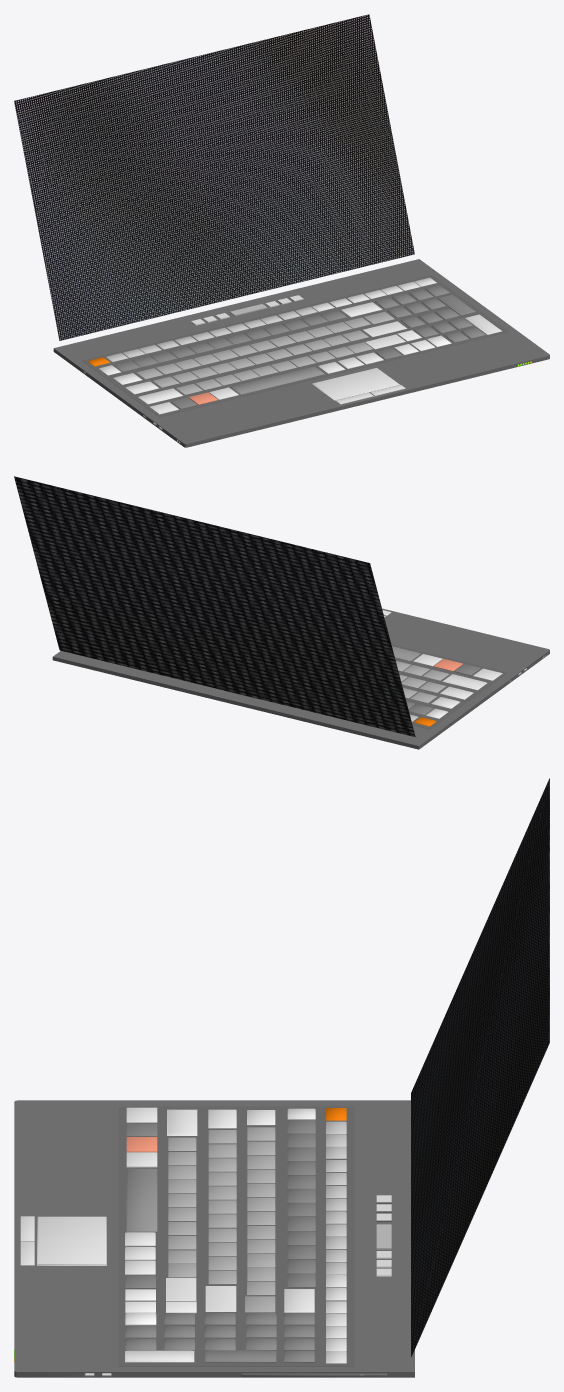
File: DynLaptop.fbx
3 renders of one model, top to bottom at view 1: azimuth 30°, elevation 25°; view 2: azimuth 150°, elevation 25°; view 3: azimuth 270°, elevation 25°, orthographic. The views are drawn at different scales.
Visible parts, largest first — view 1: Display, Laptop; view 2: Display, Laptop; view 3: Laptop, Display.
Part boxes in pixels (<box>): Display: <box>14,14,414,340</box>; Laptop: <box>53,259,549,447</box>; Display: <box>14,476,415,736</box>; Laptop: <box>52,608,549,749</box>; Laptop: <box>14,1100,414,1377</box>; Display: <box>411,778,549,1357</box>.
Size of the model in its own units: 55.13 by 31.26 by 45.87.
